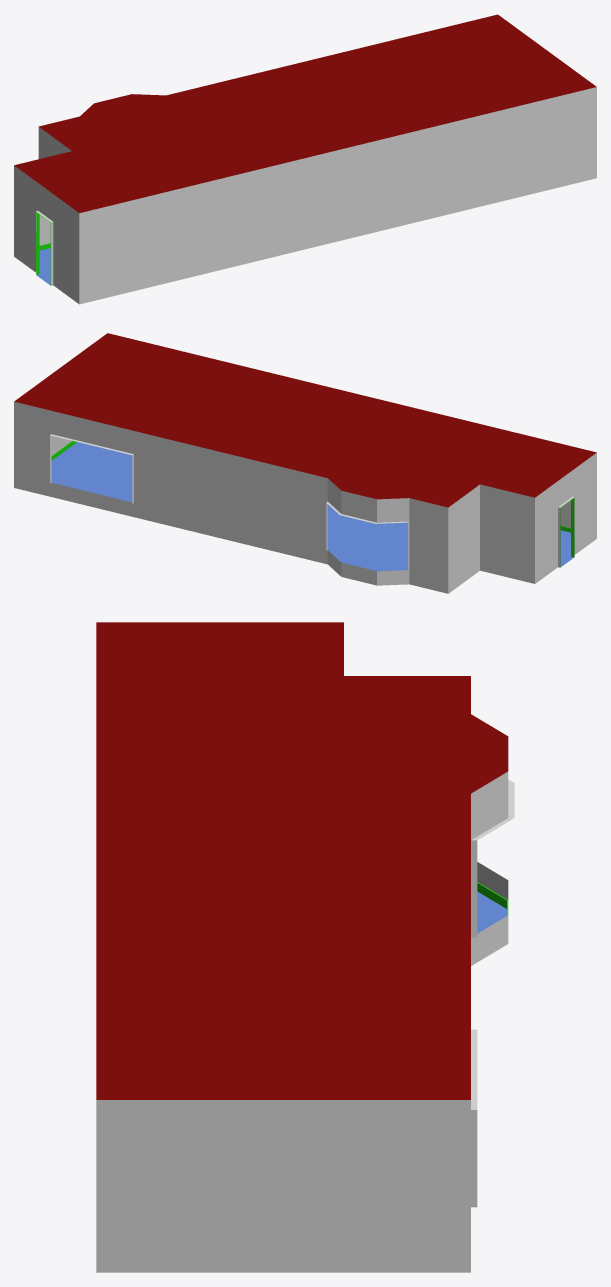
The model's file is HomeWallsAndFloor.fbx.
3 views of the same model, one above another, from view 1: azimuth 30°, elevation 25°; view 2: azimuth 150°, elevation 25°; view 3: azimuth 270°, elevation 25° (orthographic). The views are drawn at different scales.
Parts seen in each view (by area): view 1: Walls, Ceiling, Floor; view 2: Ceiling, Walls, Floor, Skirting; view 3: Ceiling, Walls.
Part boxes in pixels (<box>): Walls: <box>14,87,596,304</box>; Ceiling: <box>14,14,596,212</box>; Floor: <box>36,248,50,285</box>; Ceiling: <box>14,333,596,507</box>; Walls: <box>14,401,596,593</box>; Floor: <box>51,442,573,571</box>; Skirting: <box>51,441,574,567</box>; Ceiling: <box>96,622,508,1099</box>; Walls: <box>96,771,514,1272</box>.
Bounding box in the file's own units: 17.88 × 3 × 6.59.
